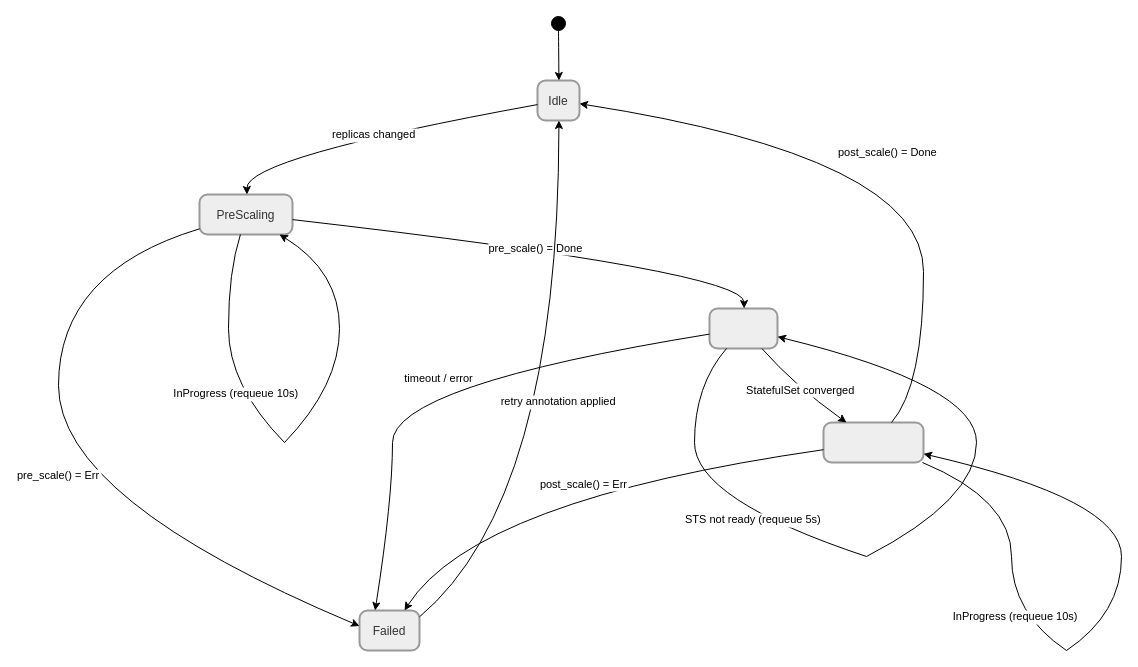
The diagram is 1138 pixels wide and 667 high, and some of its shapes have lost their labels. The centre of each missing label's shape, as x and y in pixels:
"PostScaling" belongs at (x=873, y=442).
"Scaling" belongs at (x=743, y=328).
